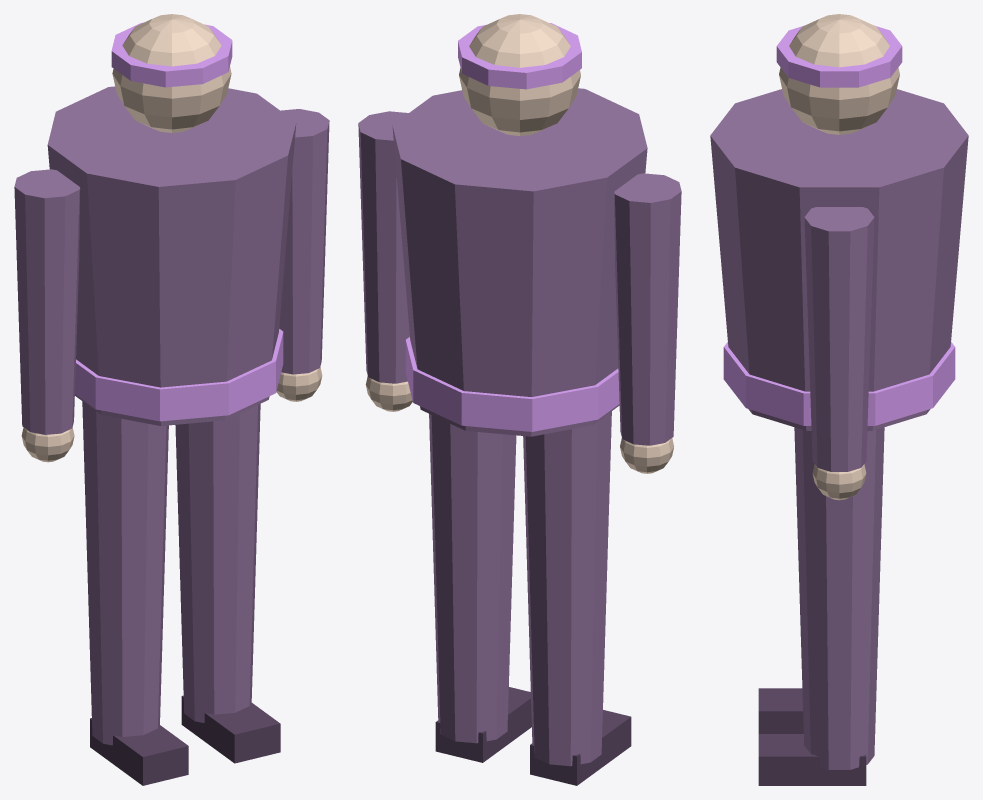
3 views of the same model, side by side, from view 1: azimuth 30°, elevation 25°; view 2: azimuth 150°, elevation 25°; view 3: azimuth 270°, elevation 25° (orthographic). The views are drawn at different scales.
Visible parts, largest first — view 1: torso, thighR, thighL, armR, armL, head, belt, footL, footR, band, handR, handL; view 2: torso, thighR, thighL, armR, armL, head, belt, band, footR, footL, handR, handL; view 3: torso, thighL, armL, head, belt, footL, band, footR, handL.
Part boxes in pixels (bbox=[...]): torso: bbox=[47, 86, 296, 425]; thighR: bbox=[82, 401, 168, 745]; thighL: bbox=[175, 404, 260, 722]; armR: bbox=[14, 169, 80, 434]; armL: bbox=[279, 109, 329, 374]; head: bbox=[112, 14, 231, 132]; belt: bbox=[75, 329, 283, 421]; footL: bbox=[181, 695, 280, 763]; footR: bbox=[90, 718, 188, 785]; band: bbox=[111, 22, 232, 87]; handR: bbox=[21, 427, 74, 462]; handL: bbox=[276, 367, 322, 401]; torso: bbox=[392, 88, 647, 436]; thighR: bbox=[523, 411, 611, 766]; thighL: bbox=[429, 414, 516, 743]; armR: bbox=[614, 173, 681, 445]; armL: bbox=[358, 111, 409, 383]; head: bbox=[459, 14, 580, 135]; belt: bbox=[405, 337, 619, 431]; band: bbox=[458, 23, 581, 89]; footR: bbox=[530, 710, 631, 785]; footL: bbox=[435, 687, 531, 762]; handR: bbox=[620, 438, 674, 473]; handL: bbox=[365, 376, 412, 411]; torso: bbox=[710, 89, 968, 430]; thighL: bbox=[794, 427, 884, 769]; armL: bbox=[804, 207, 874, 471]; head: bbox=[779, 14, 899, 134]; belt: bbox=[723, 342, 955, 425]; footL: bbox=[758, 734, 866, 785]; band: bbox=[776, 25, 902, 87]; footR: bbox=[758, 688, 803, 733]; handL: bbox=[812, 464, 866, 500].
Size of the model in its own units: 0.6636 by 1.5 by 0.48.
